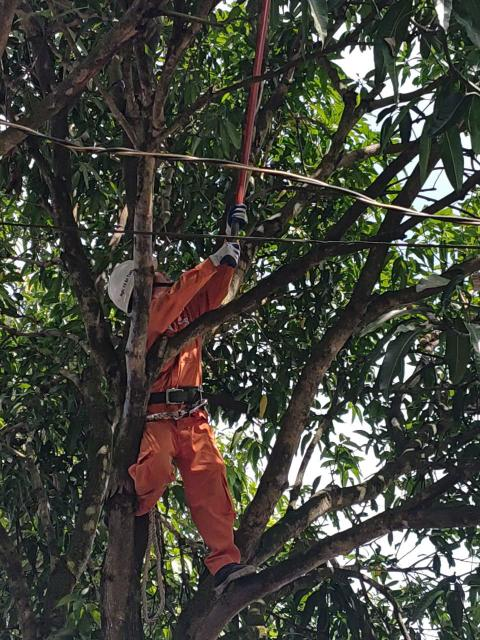harness: (131, 381, 219, 407)
shoes: (94, 248, 168, 315), (205, 556, 268, 596), (208, 197, 253, 238), (200, 238, 246, 270)
